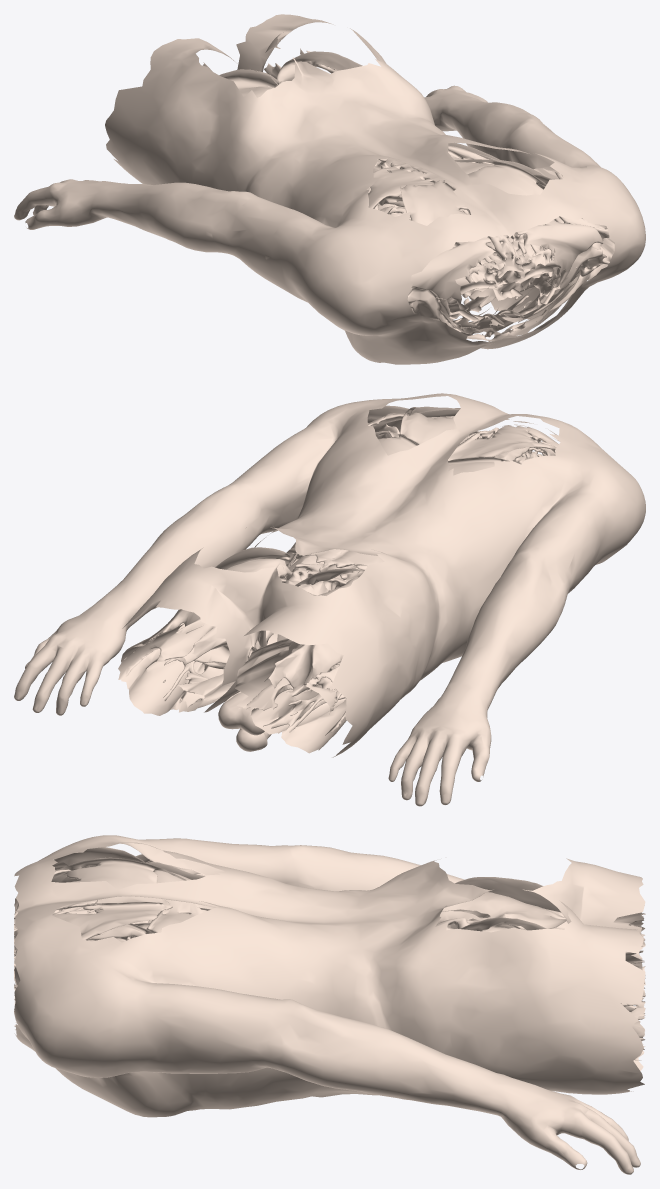
File: upperlimb__skin.55db995fd0.glb
The picture shows the model from 3 angles, top to bottom: view 1: azimuth 30°, elevation 25°; view 2: azimuth 150°, elevation 25°; view 3: azimuth 270°, elevation 25°; orthographic projection. The views are drawn at different scales.
Parts seen in each view (by area): view 1: FMA7163; view 2: FMA7163; view 3: FMA7163.
Part boxes in pixels (box(x1,y1,x2,y2)): FMA7163: box(14, 14, 645, 364); FMA7163: box(14, 393, 645, 806); FMA7163: box(14, 835, 645, 1174).
Bounding box in the file's own units: 657 × 231 × 717.
